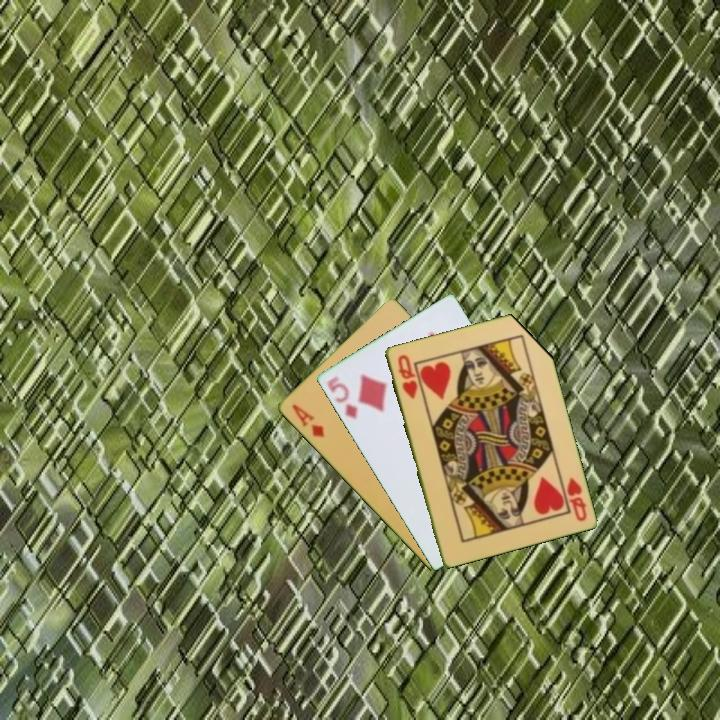5d: (323, 372, 360, 423)
Ad: (288, 401, 327, 440)
Qh: (394, 350, 420, 402), (563, 473, 589, 524)
